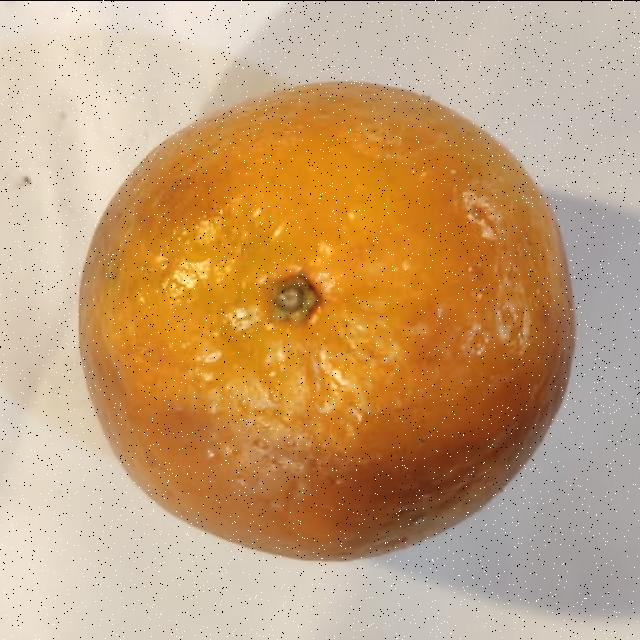Rotten: (75, 80, 579, 562)
